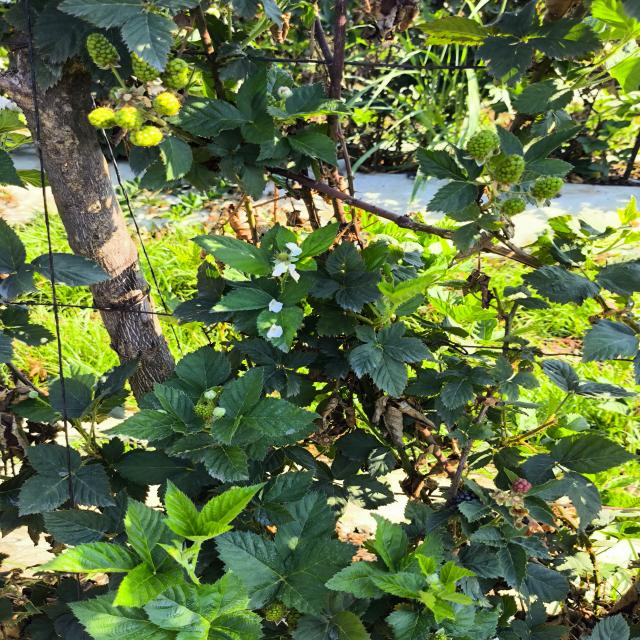verde: (86, 33, 120, 68), (160, 58, 191, 89), (466, 131, 500, 159), (495, 154, 525, 184), (131, 52, 160, 82), (114, 107, 145, 130), (531, 177, 563, 199), (130, 126, 163, 147), (153, 92, 181, 116), (88, 107, 116, 129), (500, 198, 526, 216)
